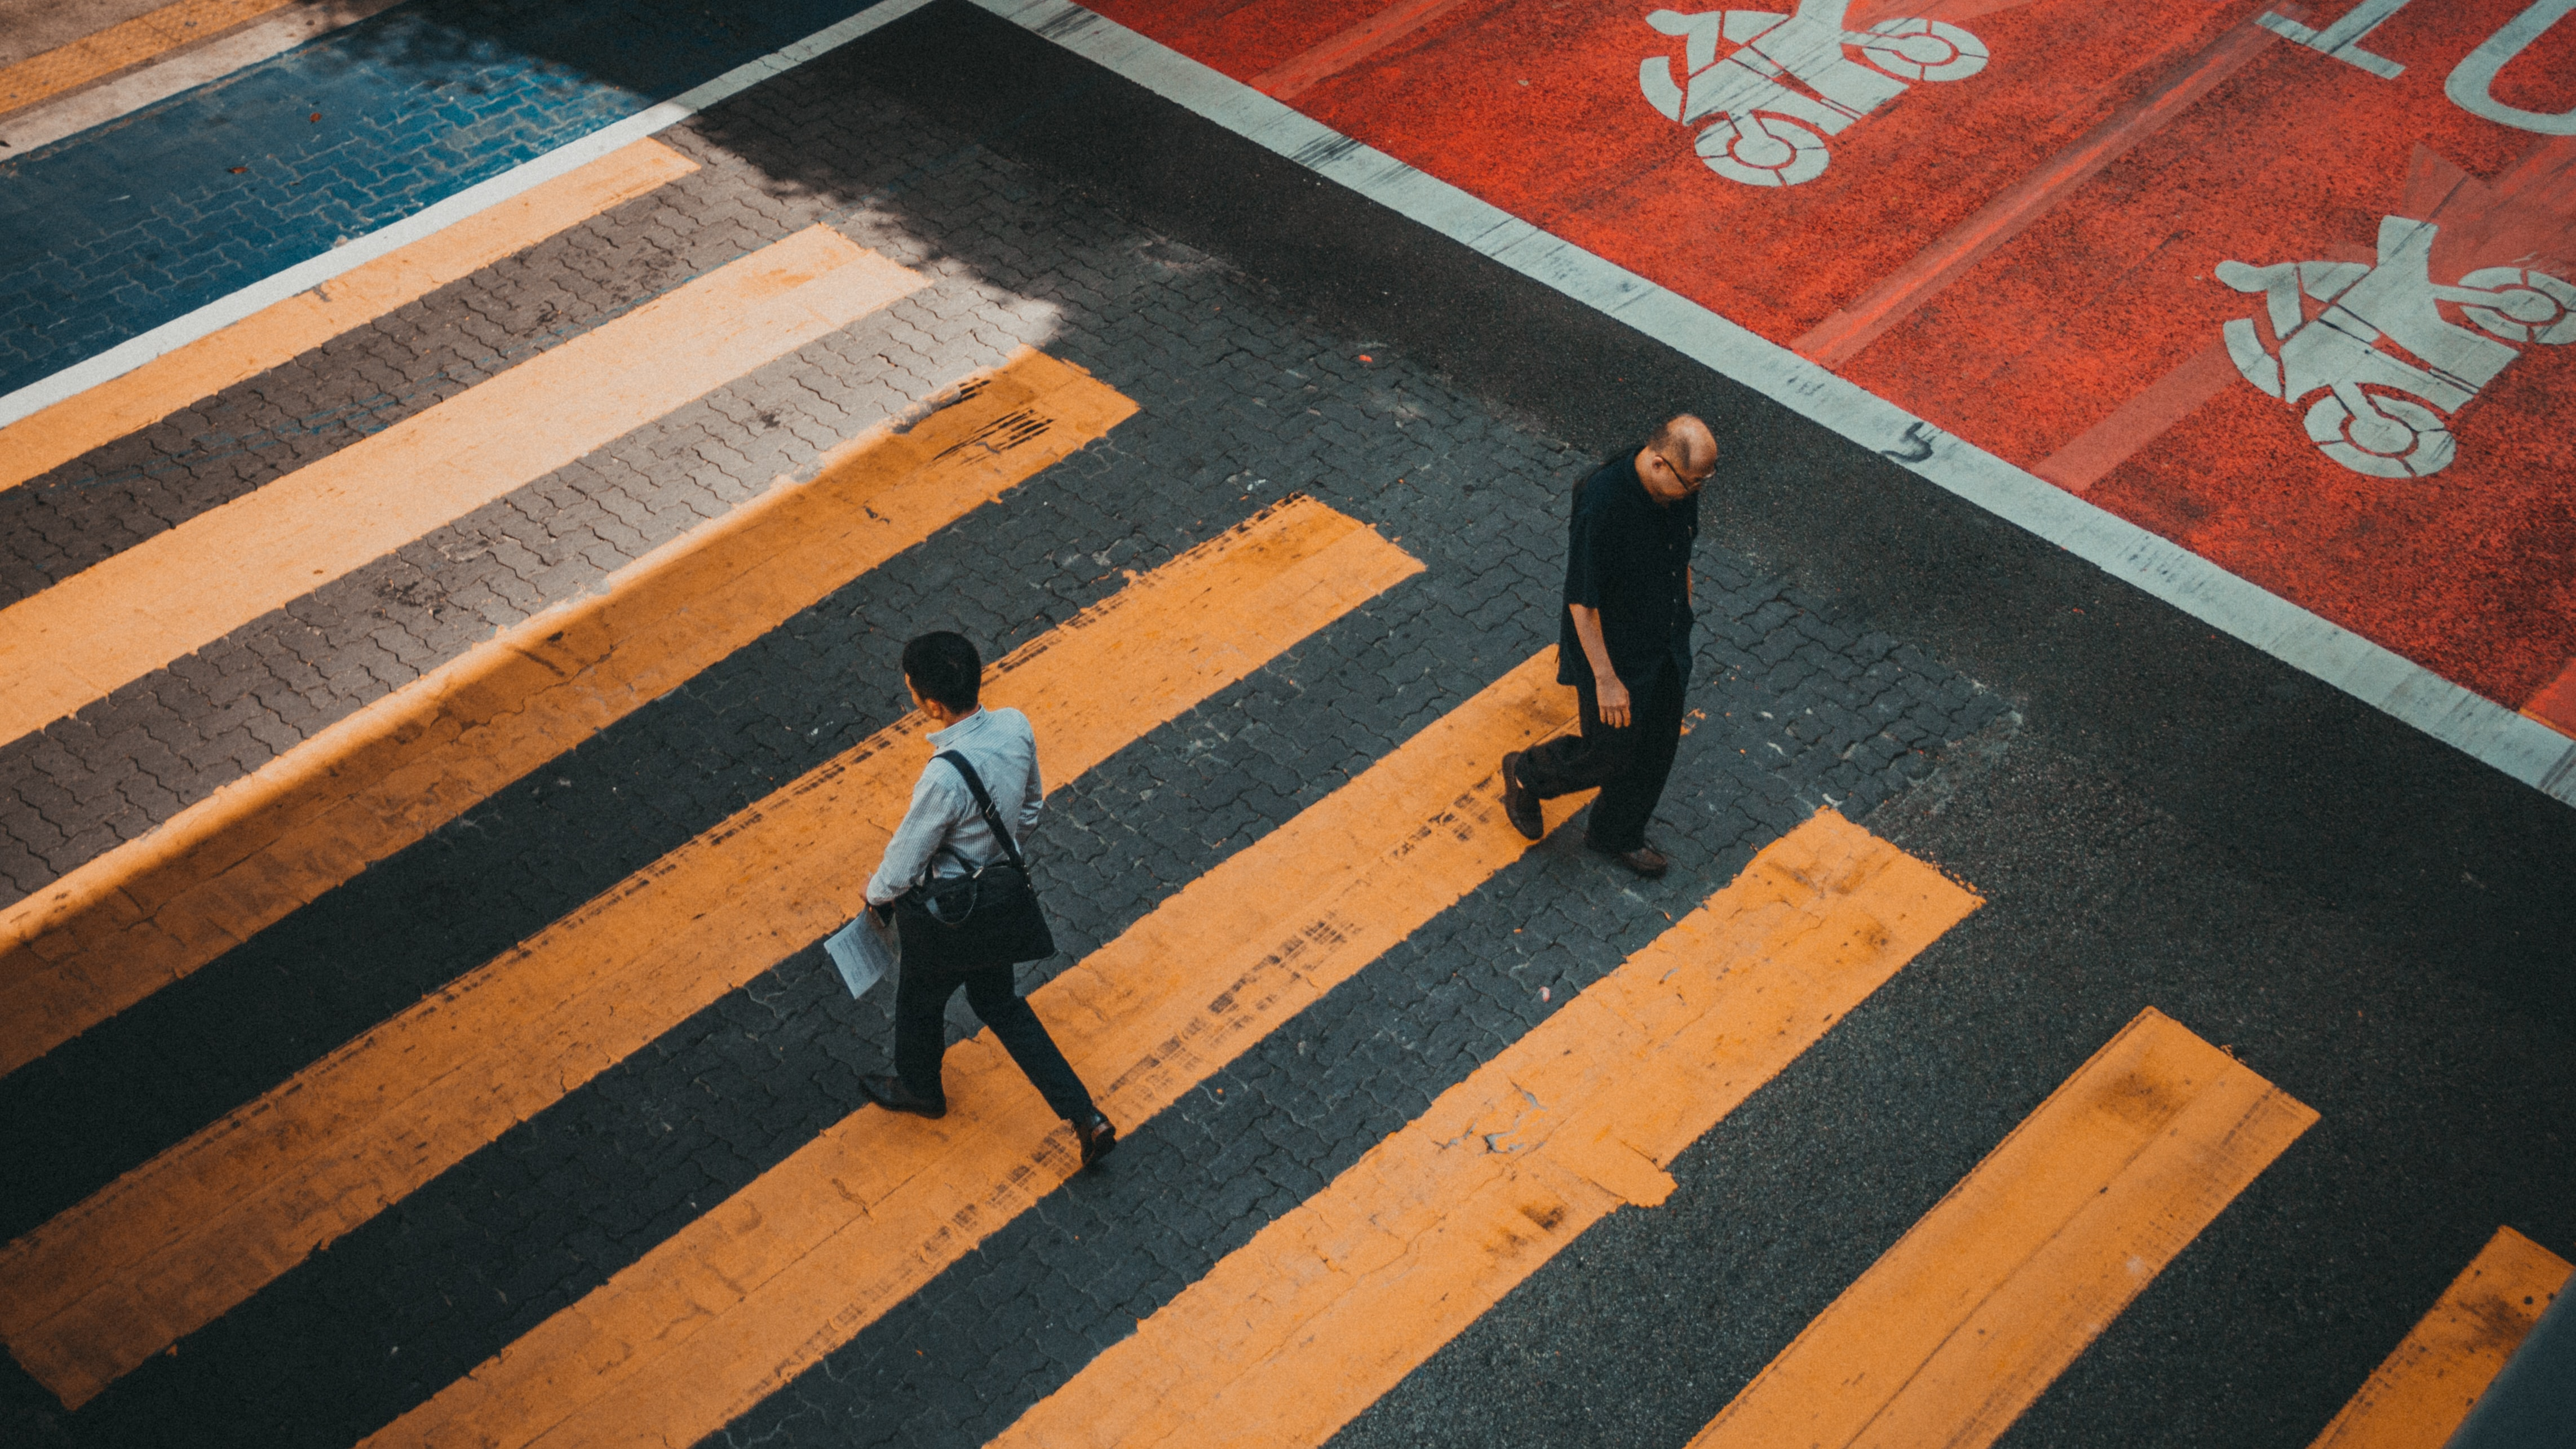person: (855, 637, 1140, 1173), (1516, 391, 1707, 876)
